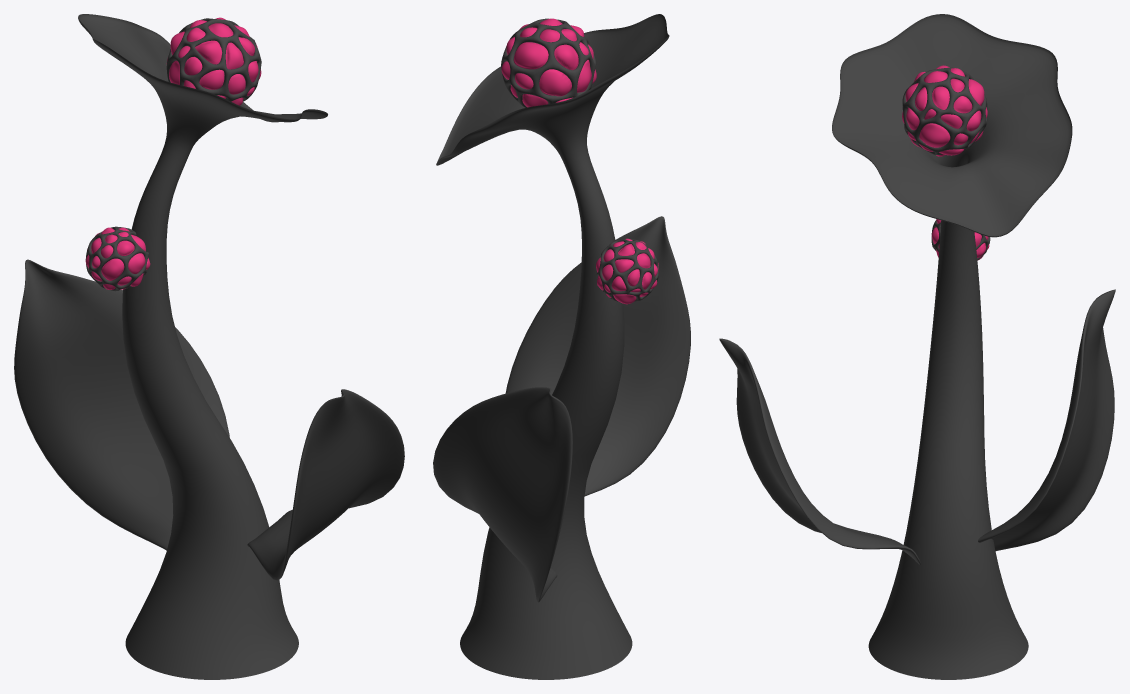
File: MegaPlant#04.fbx
3 renders of one model, left to right at view 1: azimuth 30°, elevation 25°; view 2: azimuth 150°, elevation 25°; view 3: azimuth 270°, elevation 25°, orthographic. The views are drawn at different scales.
Visible parts, largest first — view 1: Cylinder, Plane.002, Plane.001, Roundcube.001, Roundcube, Roundcube.002, Roundcube.003; view 2: Cylinder, Plane.001, Plane.002, Roundcube.001, Roundcube, Roundcube.002, Roundcube.003; view 3: Cylinder, Plane.002, Plane.001, Roundcube.001, Roundcube.
Boxes of the visible parts, left/top/right/bottom form: Cylinder: left=78, top=14, right=327, bottom=679; Plane.002: left=14, top=259, right=229, bottom=550; Plane.001: left=247, top=389, right=404, bottom=580; Roundcube.001: left=166, top=17, right=261, bottom=105; Roundcube: left=166, top=18, right=261, bottom=101; Roundcube.002: left=85, top=227, right=150, bottom=289; Roundcube.003: left=85, top=226, right=148, bottom=291; Cylinder: left=436, top=14, right=669, bottom=679; Plane.001: left=505, top=216, right=690, bottom=496; Plane.002: left=433, top=387, right=572, bottom=602; Roundcube.001: left=501, top=18, right=596, bottom=107; Roundcube: left=501, top=18, right=596, bottom=107; Roundcube.002: left=596, top=238, right=658, bottom=304; Roundcube.003: left=596, top=238, right=658, bottom=301; Cylinder: left=832, top=14, right=1072, bottom=679; Plane.002: left=978, top=289, right=1115, bottom=551; Plane.001: left=719, top=338, right=920, bottom=564; Roundcube.001: left=902, top=65, right=987, bottom=156; Roundcube: left=902, top=67, right=987, bottom=154.
Size of the model in its own units: 494 by 1311 by 811.
